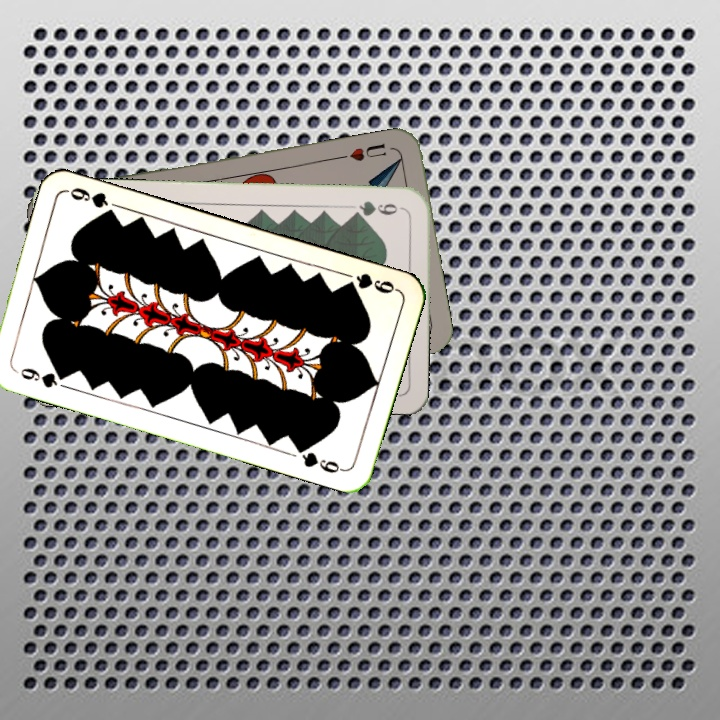G9: (11, 363, 71, 391), (339, 269, 400, 296), (348, 197, 406, 219)
HU: (336, 139, 389, 164)
